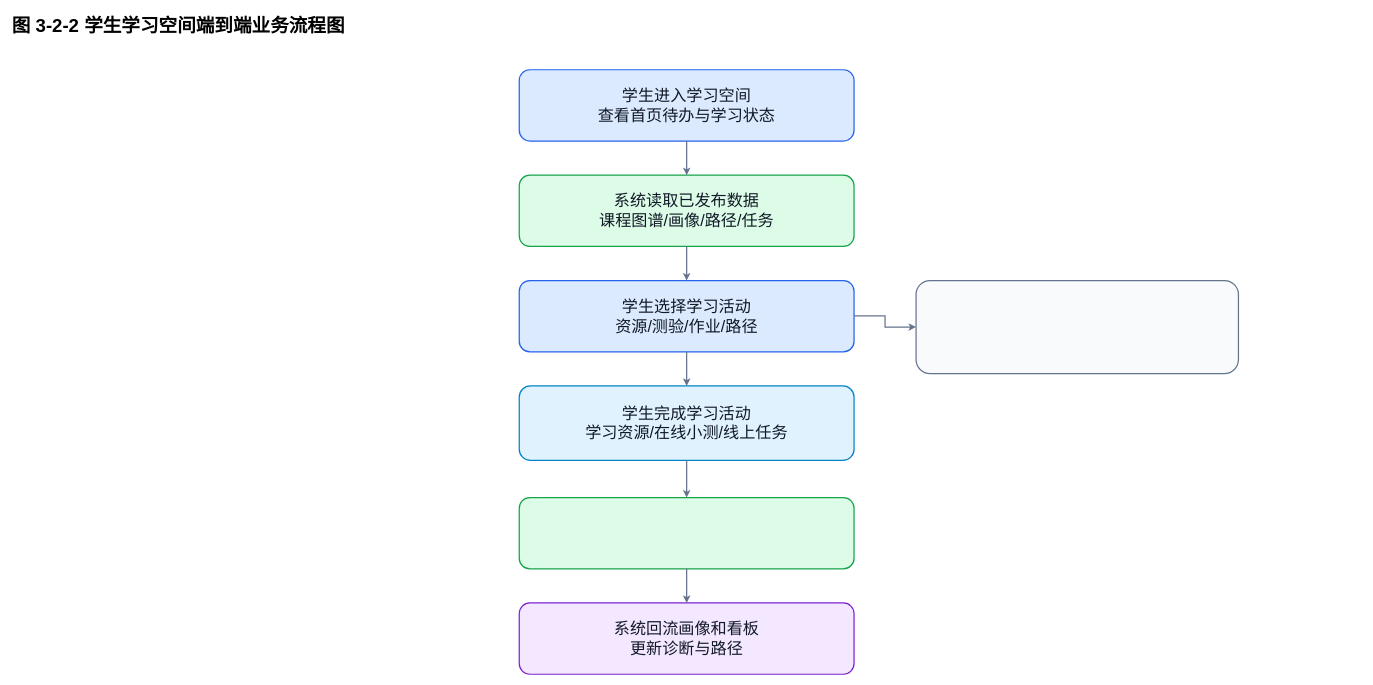
This 1373x685 diagram has some shape labels left out. The shapes that lost their labels are listed below. From the top down, each one's box as (x1, y1, x2, y2) in pixels, then its label:
(915, 280, 1239, 374): 入口说明 所有入口只读取已发布课程底座 未发布草稿不进入学生端
(518, 497, 854, 569): 系统记录学习证据 访问/作答/提交/完成
